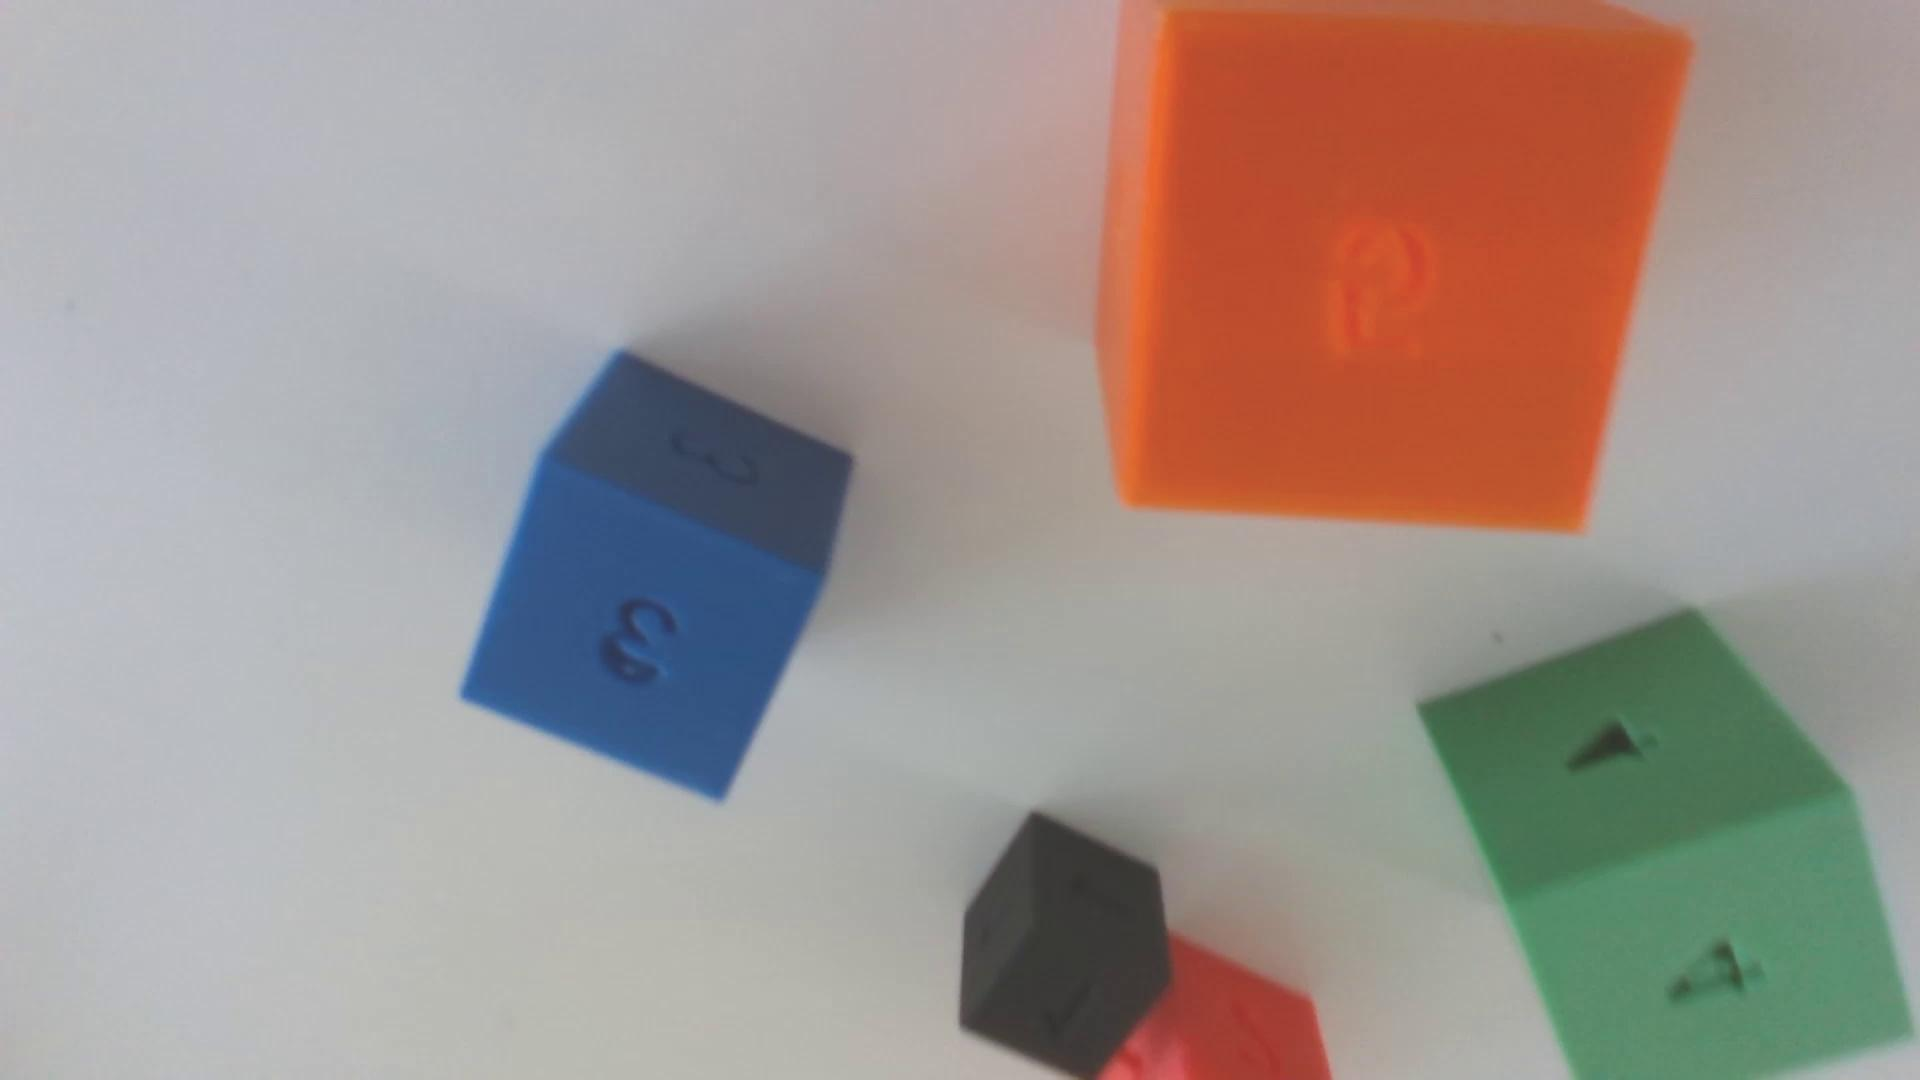black: (957, 812, 1171, 1080)
blue: (462, 352, 851, 799)
green: (1419, 611, 1913, 1080)
orange: (1096, 0, 1691, 530)
red: (1098, 935, 1332, 1080)
